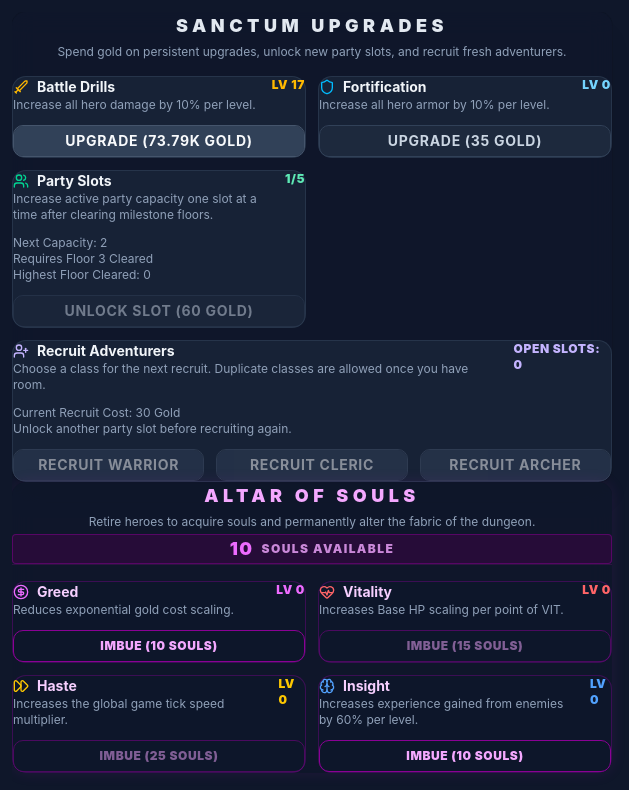
UpgradesPanel › updates displayed upgrade costs after buying the gold cost reducer prestige upgrade
The image size is (629, 790).
Expected: the button "Upgrade (73.79k Gold)" is shown, [13,125,305,157]
Click the button "Imbue (10 Souls)" below "Reduces exponential gold cost scaling.". click: point(159, 646)
box: [13,630,305,662]
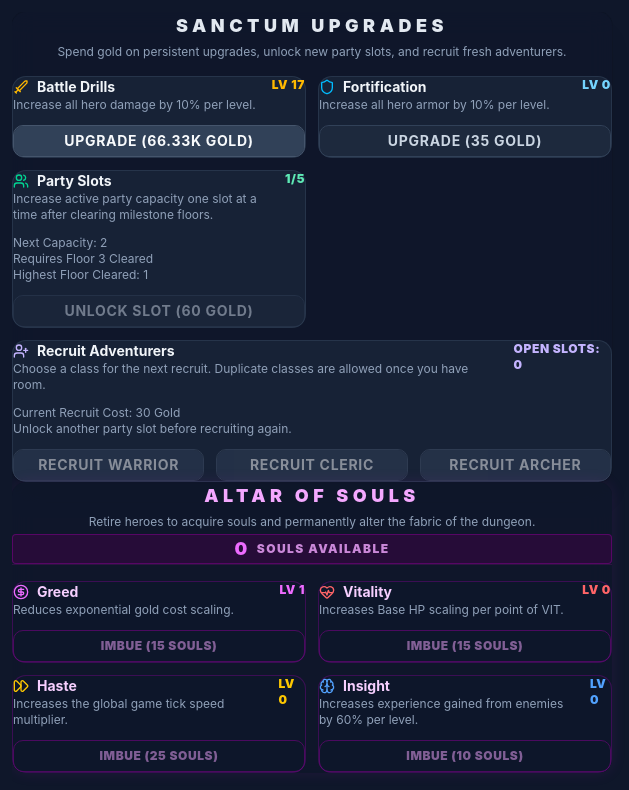
Expected: the button "Upgrade (66.33k Gold)" is shown, [13,125,305,157]
